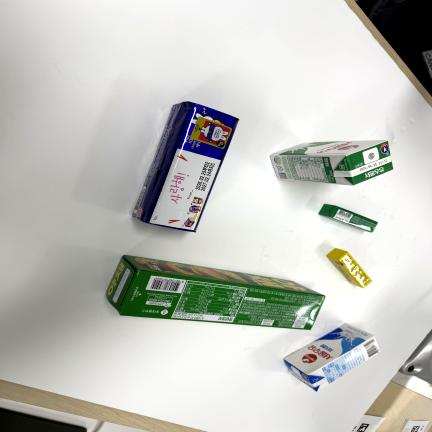cracker_ace: (133, 102, 239, 232)
cracker_vege: (106, 255, 325, 330)
gum_green: (318, 204, 378, 232)
gum_yellow: (326, 249, 372, 288)
milk_blue: (284, 323, 380, 391)
milk_green: (270, 140, 393, 185)
